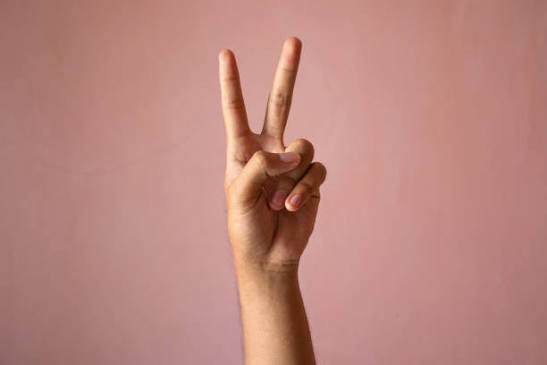peace_sign: (217, 33, 334, 251)
